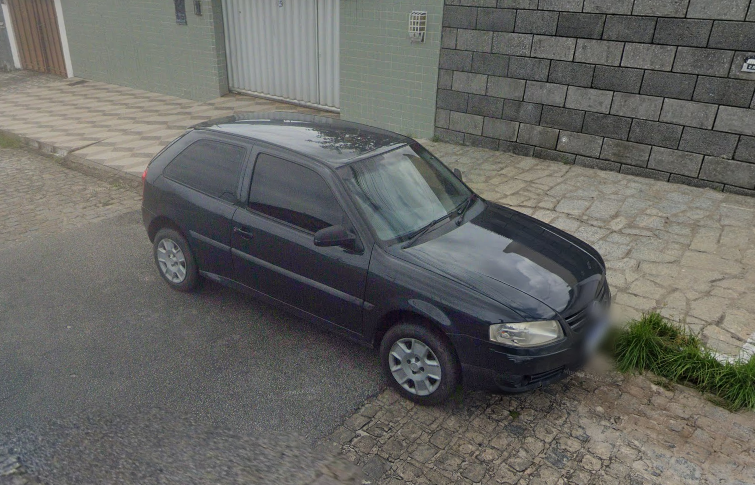car: (140, 108, 613, 407)
